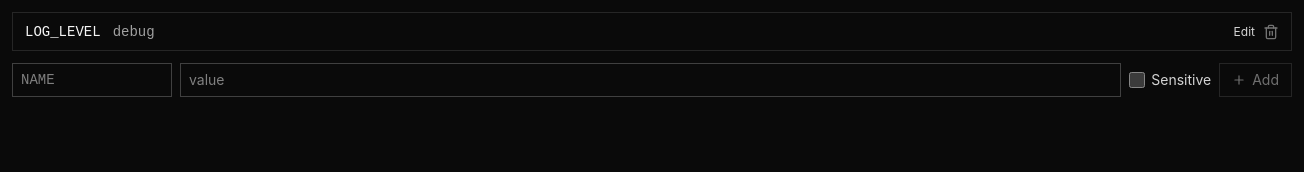
Test: VariablesEditor › deletes a variable after confirmation
Click the button named "delete log_level" at {"x": 1271, "y": 32}, box [1263, 24, 1279, 40]
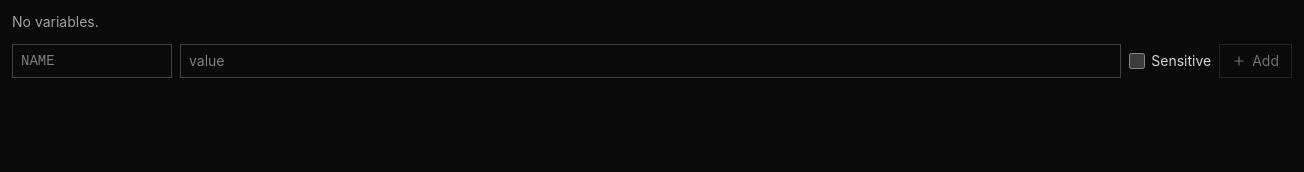
Check: the text "LOG_LEVEL" is gone
